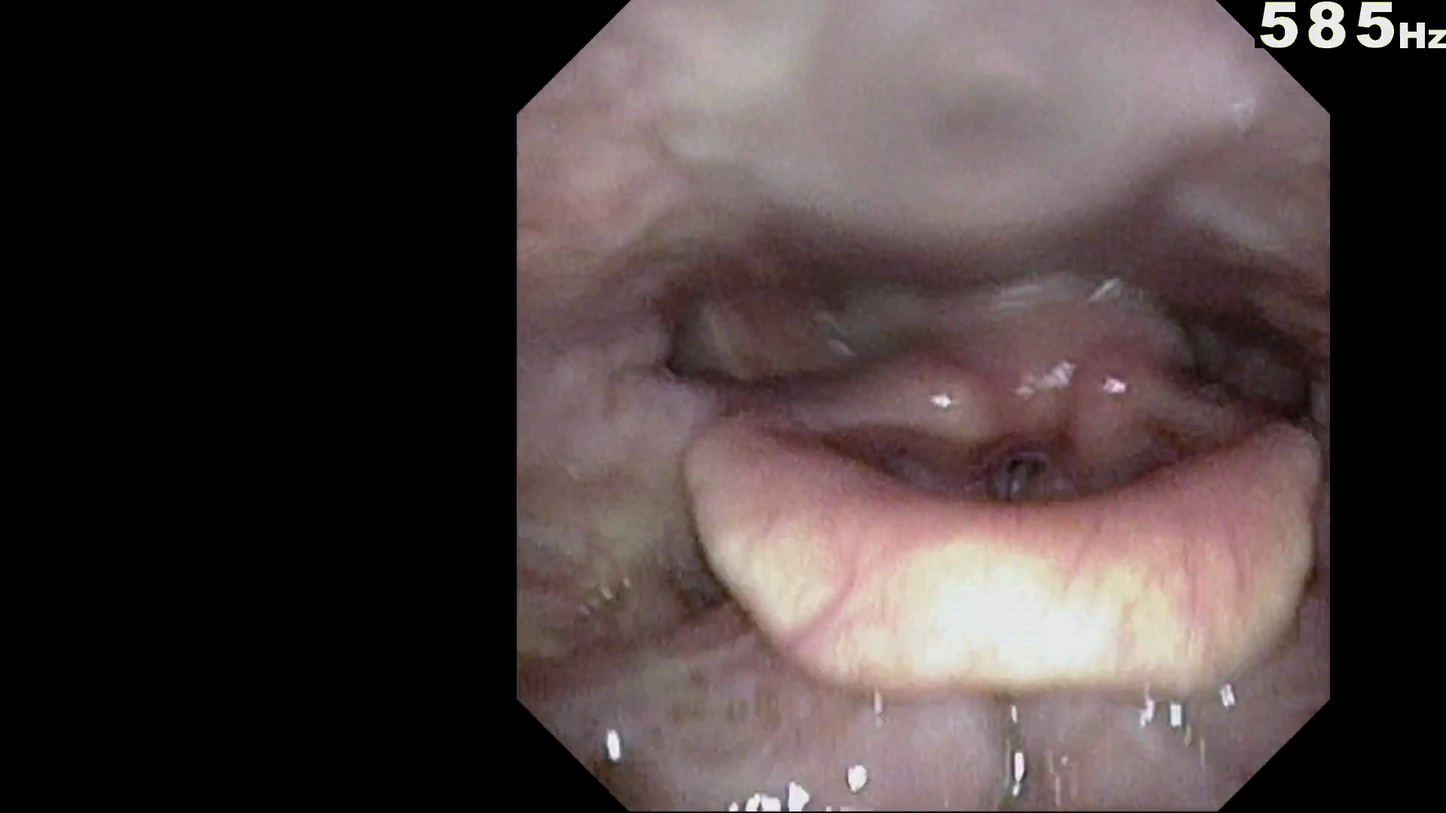epiglottis: (684, 385, 1326, 666)
trachea: (974, 405, 1055, 507)
